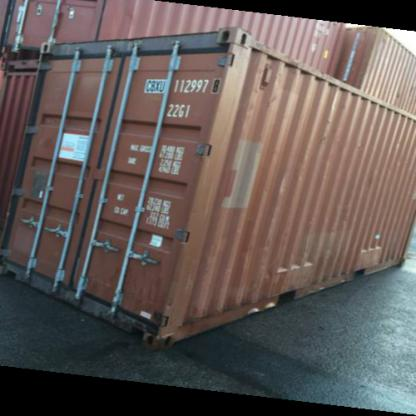Damage: (263, 248, 318, 278), (149, 300, 181, 326), (356, 234, 382, 258)
